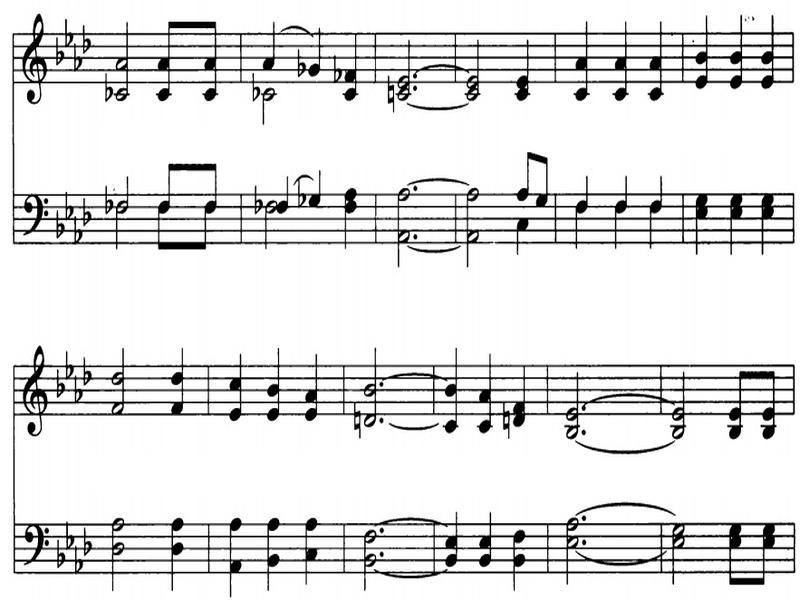B: (459, 32, 496, 104), (103, 516, 136, 588), (461, 181, 483, 278), (667, 367, 691, 454), (666, 502, 689, 591), (109, 341, 133, 423), (392, 184, 412, 275), (392, 44, 418, 105), (117, 9, 133, 108), (356, 524, 377, 596), (255, 198, 280, 256), (108, 195, 131, 253), (566, 363, 581, 449), (258, 86, 295, 118), (367, 344, 379, 427), (112, 173, 130, 214)
Bem: (43, 34, 64, 72), (80, 522, 100, 560), (67, 52, 89, 86), (51, 208, 68, 249), (50, 534, 67, 574), (54, 14, 76, 44), (249, 183, 263, 227), (98, 72, 113, 109), (97, 185, 113, 219), (290, 178, 307, 208), (76, 30, 97, 53), (77, 357, 91, 391), (62, 351, 76, 384), (57, 510, 70, 545), (239, 74, 258, 97), (67, 191, 80, 223), (79, 192, 92, 224), (68, 549, 84, 574), (329, 54, 342, 84), (68, 217, 84, 241), (291, 53, 308, 75), (55, 370, 67, 397), (73, 384, 80, 405)
C: (147, 1, 183, 105), (198, 1, 230, 99), (723, 357, 751, 440), (752, 521, 783, 594), (757, 361, 783, 444), (145, 198, 175, 254), (197, 199, 220, 271), (151, 160, 177, 214), (516, 141, 536, 202), (202, 156, 223, 214), (726, 520, 741, 593), (536, 146, 551, 210)
CF: (12, 185, 50, 244), (19, 515, 50, 578)
CS: (7, 338, 53, 448), (11, 6, 52, 107)
N: (437, 315, 477, 438), (300, 479, 337, 594), (642, 1, 677, 107), (506, 2, 537, 103), (565, 8, 601, 93), (607, 11, 637, 104), (694, 6, 725, 93), (161, 499, 189, 594), (297, 346, 327, 433), (223, 505, 251, 597), (336, 175, 364, 265), (477, 489, 507, 569), (339, 20, 367, 104), (265, 343, 293, 427), (479, 344, 503, 439), (681, 188, 713, 258), (257, 514, 287, 588), (726, 11, 752, 94), (506, 521, 536, 592), (560, 200, 595, 260), (756, 174, 782, 254), (165, 344, 191, 424), (721, 186, 751, 249), (226, 348, 249, 427), (512, 357, 534, 433), (760, 1, 778, 93), (507, 210, 537, 263), (446, 499, 466, 572), (609, 165, 638, 213), (644, 172, 673, 219), (640, 203, 663, 257), (257, 12, 277, 68), (275, 164, 297, 211), (308, 24, 327, 78), (572, 174, 597, 215), (307, 168, 330, 211), (615, 197, 631, 256)
P: (407, 180, 424, 196), (579, 537, 596, 552), (377, 377, 392, 393), (373, 413, 387, 427), (375, 549, 389, 561), (410, 231, 420, 246), (378, 523, 386, 535), (580, 512, 588, 524), (412, 85, 422, 94), (413, 72, 418, 84)
SOS: (495, 391, 513, 440), (347, 398, 366, 438), (383, 74, 400, 116)
